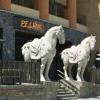Statue: (18, 19, 100, 87)
